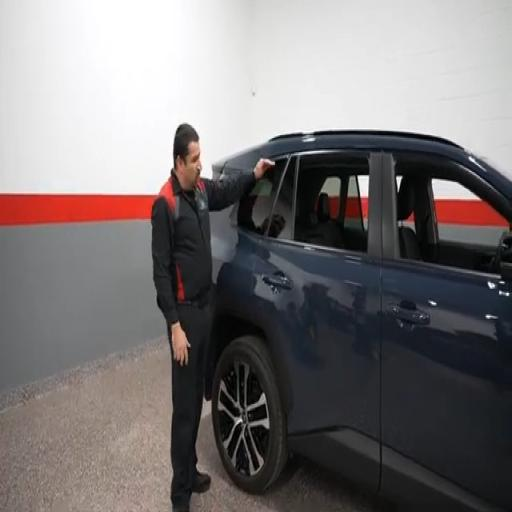door: (240, 151, 381, 490), (382, 153, 511, 507)
side_mirror: (497, 232, 511, 281)
tire: (212, 336, 287, 494)
wheel: (212, 336, 287, 493)
window: (395, 154, 511, 273), (232, 153, 369, 251), (274, 153, 368, 251), (231, 157, 287, 234)
